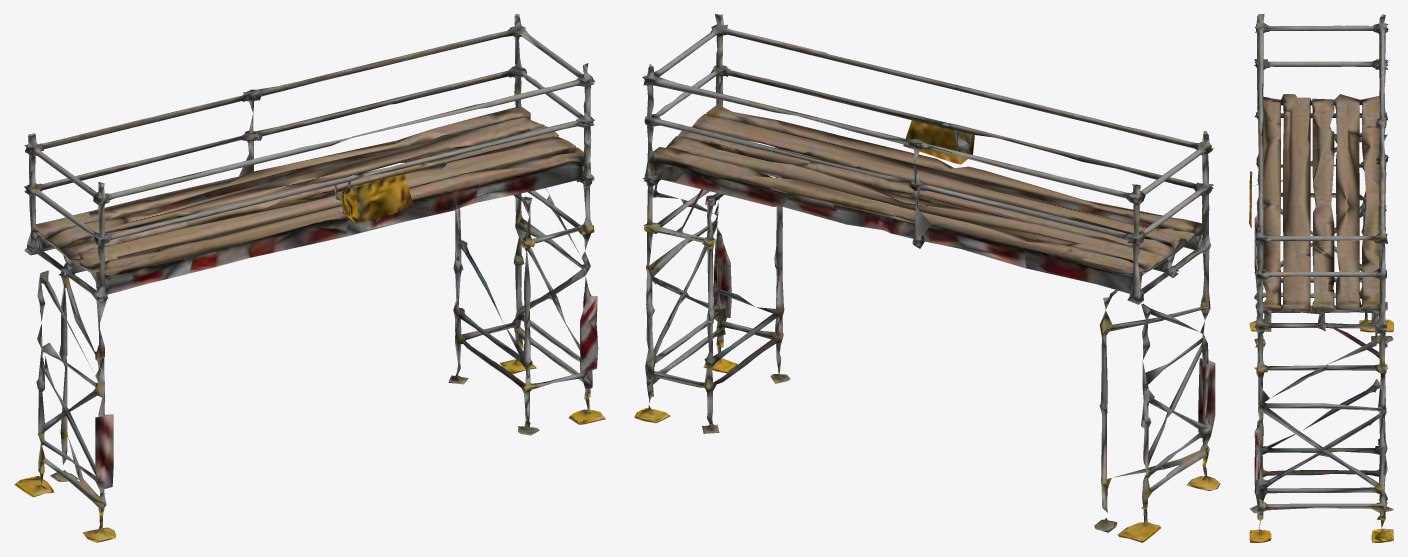
The model's file is veh-d-scaffold.glb.
3 views of the same model, side by side, from view 1: azimuth 30°, elevation 25°; view 2: azimuth 150°, elevation 25°; view 3: azimuth 270°, elevation 25° (orthographic). The views are drawn at different scales.
Visible parts, largest first — view 1: tripo_node_bc42e900-c460-49cd-8932-1fbd434dfd1e; view 2: tripo_node_bc42e900-c460-49cd-8932-1fbd434dfd1e; view 3: tripo_node_bc42e900-c460-49cd-8932-1fbd434dfd1e.
Part boxes in pixels (x1,y1,x2,y2): tripo_node_bc42e900-c460-49cd-8932-1fbd434dfd1e: [14, 14, 605, 542]; tripo_node_bc42e900-c460-49cd-8932-1fbd434dfd1e: [634, 14, 1220, 542]; tripo_node_bc42e900-c460-49cd-8932-1fbd434dfd1e: [1249, 14, 1393, 542].
Bounding box in the file's own units: 0.9847 × 0.6485 × 0.2721.
Materials: 1 (1 with a texture image).
